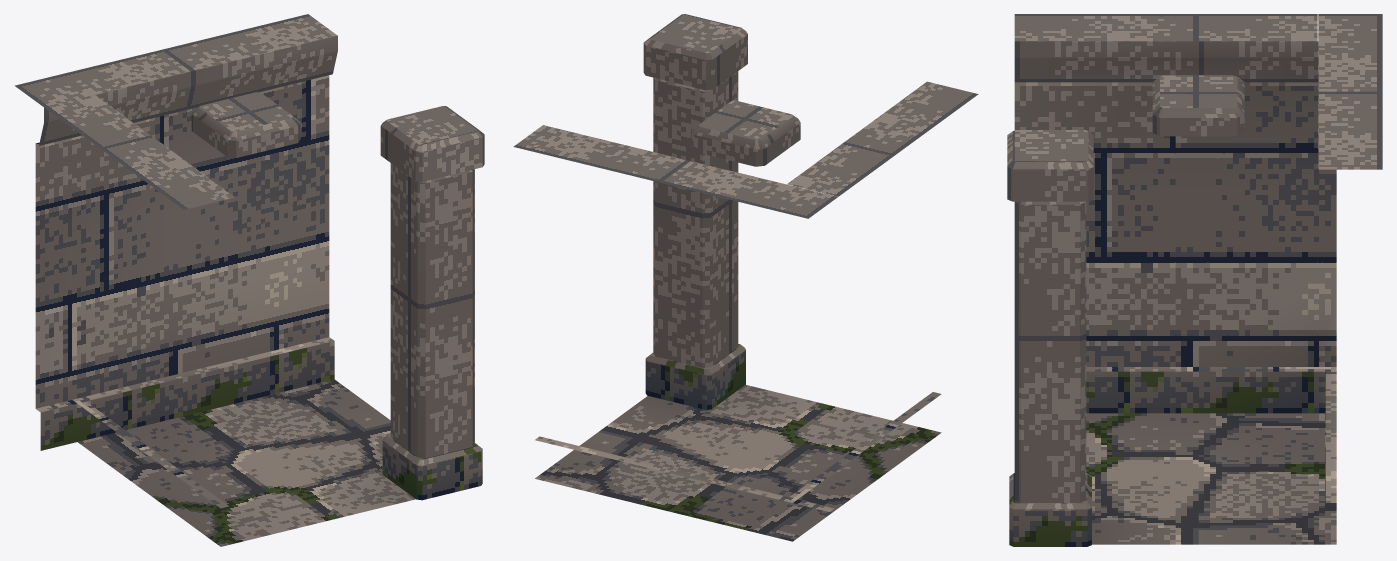
Rendered from dgn.corridor__corner.glb.
The picture shows the model from 3 angles, left to right: view 1: azimuth 30°, elevation 25°; view 2: azimuth 150°, elevation 25°; view 3: azimuth 270°, elevation 25°; orthographic projection. The views are drawn at different scales.
Visible parts, largest first — view 1: kit_shell_walls, kit_piers, kit_shell_floor, kit_boss; view 2: kit_shell_floor, kit_piers, kit_shell_walls, kit_boss; view 3: kit_shell_walls, kit_piers, kit_shell_floor, kit_boss.
Boxes of the visible parts, bbox=[...] form: kit_shell_walls: bbox=[14, 14, 337, 508]; kit_piers: bbox=[380, 106, 484, 500]; kit_shell_floor: bbox=[78, 379, 415, 546]; kit_boss: bbox=[191, 92, 300, 157]; kit_shell_floor: bbox=[535, 384, 941, 541]; kit_piers: bbox=[643, 14, 747, 409]; kit_shell_walls: bbox=[513, 81, 978, 511]; kit_boss: bbox=[691, 100, 800, 166]; kit_shell_walls: bbox=[1014, 14, 1382, 502]; kit_piers: bbox=[1007, 130, 1093, 546]; kit_shell_floor: bbox=[1086, 413, 1336, 544]; kit_boss: bbox=[1152, 75, 1244, 136].
Bounding box in the file's own units: 4.08 × 4.6 × 4.08.
5 materials, 5 textured.
